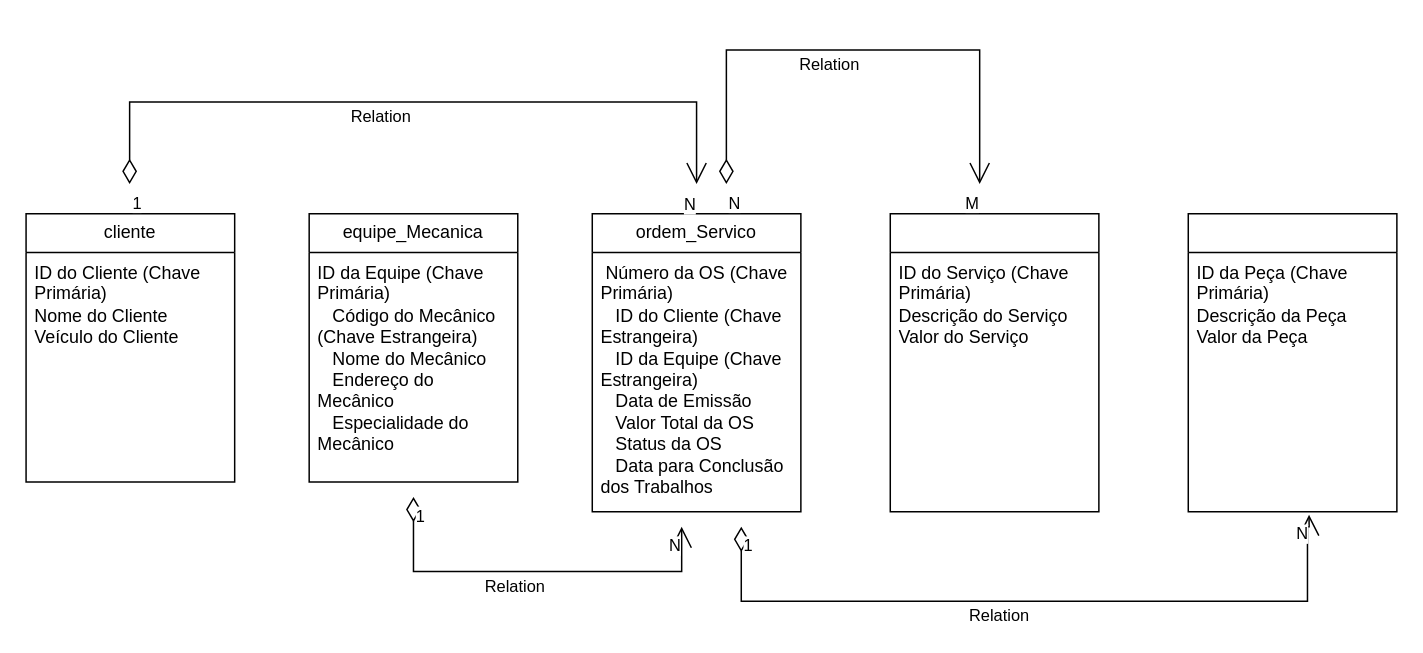
Image size: 1423x653. Some labels were removed from this diagram. The box of each missing label's shape, as (x1, y1, x2, y2) in pixels:
pecas: (1187, 212, 1397, 512)
servicos: (889, 212, 1099, 512)
